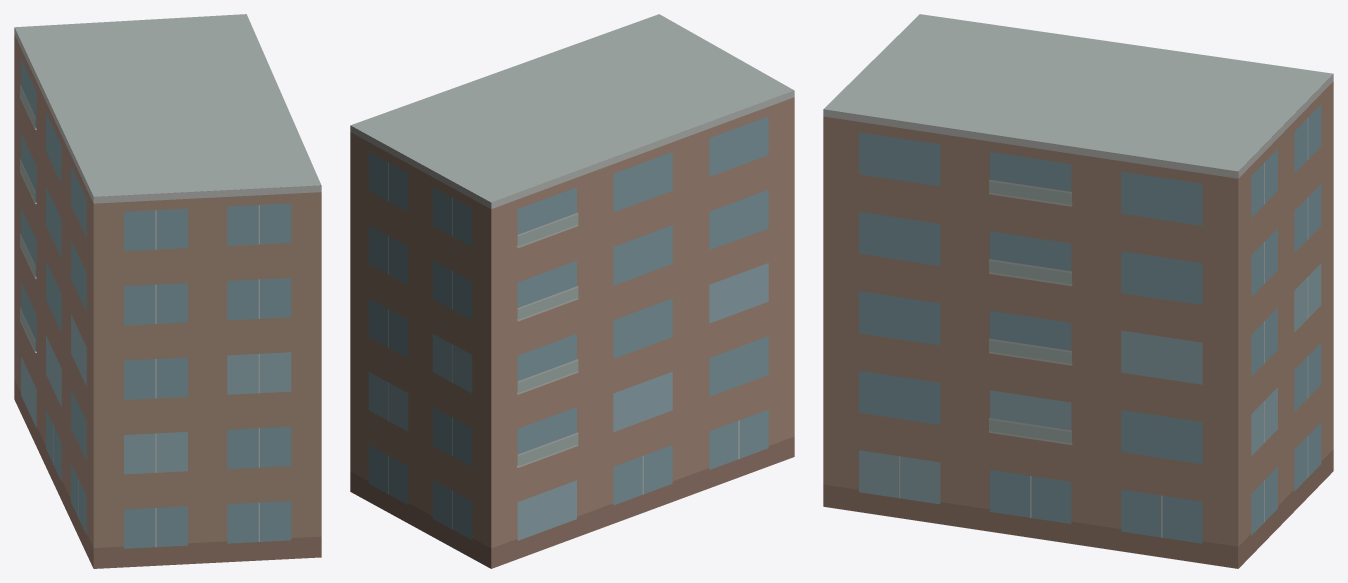
The model's file is survey-upis-32854299.glb.
3 views of the same model, side by side, from view 1: azimuth 30°, elevation 25°; view 2: azimuth 150°, elevation 25°; view 3: azimuth 270°, elevation 25° (orthographic). The views are drawn at different scales.
Visible parts, largest first — view 1: survey-upis-32854299.tmp; view 2: survey-upis-32854299.tmp; view 3: survey-upis-32854299.tmp.
Boxes of the visible parts, bbox=[...] form: survey-upis-32854299.tmp: bbox=[14, 14, 321, 568]; survey-upis-32854299.tmp: bbox=[350, 14, 794, 568]; survey-upis-32854299.tmp: bbox=[823, 14, 1333, 568].
Bounding box in the file's own units: 11.39 × 13.39 × 15.59.
